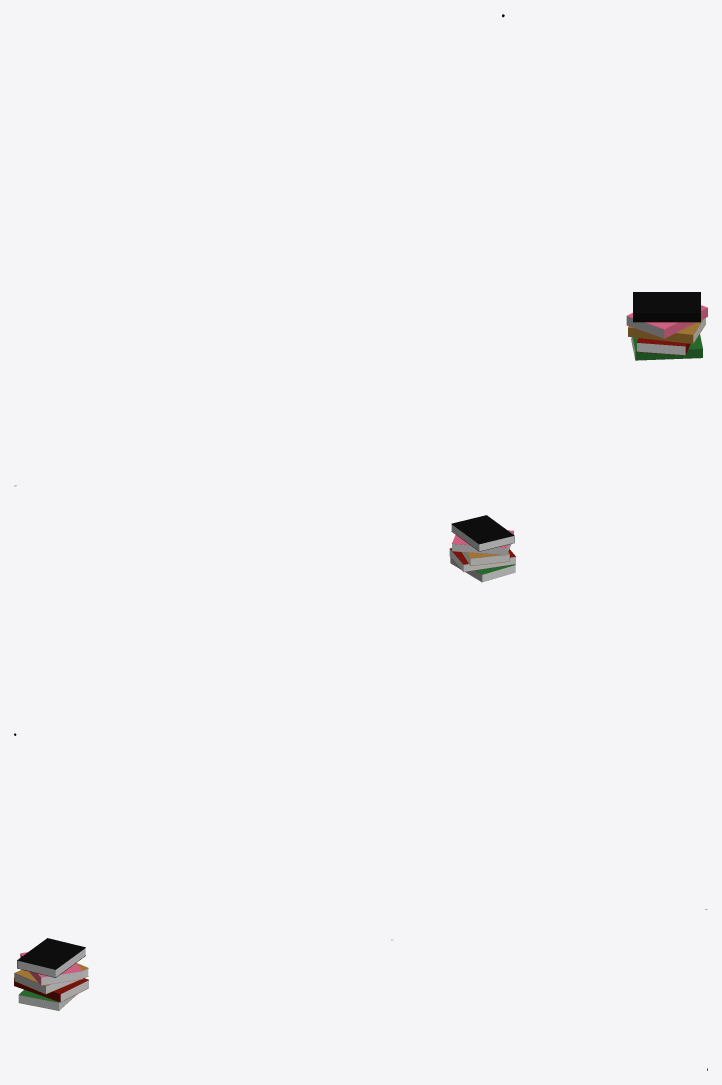
The model's file is buku _Scene.fbx.
3 views of the same model, one above another, from view 1: azimuth 30°, elevation 25°; view 2: azimuth 150°, elevation 25°; view 3: azimuth 270°, elevation 25° (orthographic). The views are drawn at different scales.
Parts seen in each view (by area): view 1: Book0, Book1, Book2; view 2: Book0; view 3: Book0, Book2, Book3, Book4, Book1.
Boxes of the visible parts, x1=… form: Book0: x1=633, y1=292, x2=700, y2=322; Book1: x1=626, y1=305, x2=707, y2=338; Book2: x1=628, y1=318, x2=705, y2=343; Book0: x1=451, y1=515, x2=514, y2=551; Book0: x1=17, y1=938, x2=85, y2=977; Book2: x1=14, y1=963, x2=88, y2=994; Book3: x1=14, y1=978, x2=88, y2=1002; Book4: x1=18, y1=989, x2=77, y2=1010; Book1: x1=20, y1=952, x2=82, y2=985.
Bounding box in the file's own units: 507 × 153 × 510.
